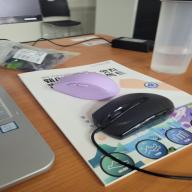mouse: (92, 82, 179, 143), (53, 72, 120, 100)
